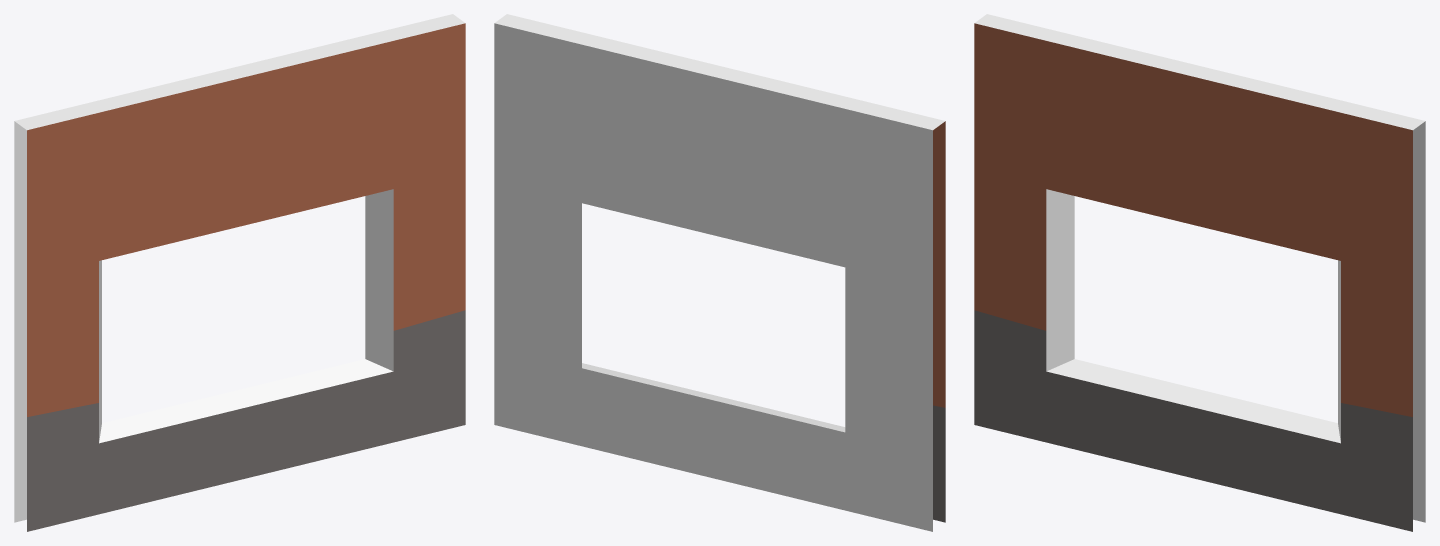
The model's file is SM_Outer_Wall_Window_400.FBX.
3 renders of one model, left to right at view 1: azimuth 30°, elevation 25°; view 2: azimuth 150°, elevation 25°; view 3: azimuth 330°, elevation 25°, orthographic.
Parts seen in each view (by area): view 1: SM_Outer_Wall_Window_400; view 2: SM_Outer_Wall_Window_400; view 3: SM_Outer_Wall_Window_400.
Boxes of the visible parts, box(x1,y1,x2,y2) form: SM_Outer_Wall_Window_400: box(14, 14, 465, 531); SM_Outer_Wall_Window_400: box(494, 14, 945, 531); SM_Outer_Wall_Window_400: box(974, 14, 1425, 531).
Size of the model in its own units: 400 by 20 by 350.
